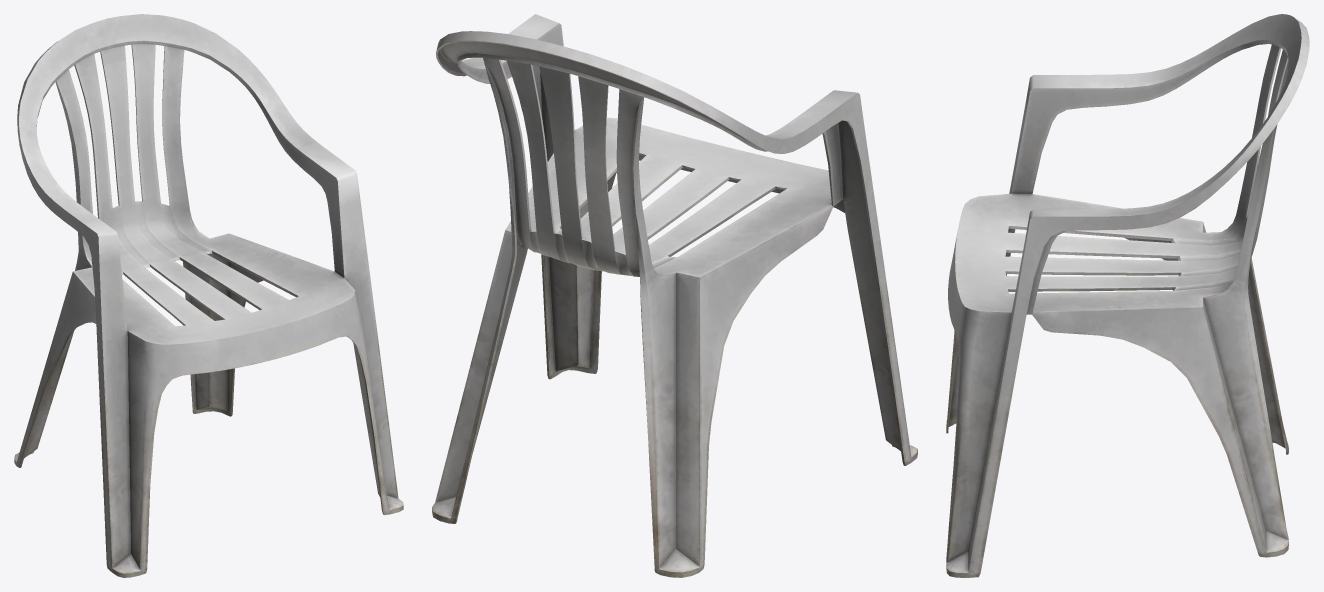
File: chair.glb
The picture shows the model from 3 angles, left to right: view 1: azimuth 30°, elevation 25°; view 2: azimuth 150°, elevation 25°; view 3: azimuth 270°, elevation 25°; orthographic projection. The views are drawn at different scales.
Visible parts, largest first — view 1: Monobloc_Material.001_0; view 2: Monobloc_Material.001_0; view 3: Monobloc_Material.001_0.
Part boxes in pixels (x1,y1,x2,y2): Monobloc_Material.001_0: (14,14,403,577); Monobloc_Material.001_0: (432,14,917,577); Monobloc_Material.001_0: (946,14,1309,577).
Size of the model in its own units: 0.808 by 1.11 by 0.79.
1 material, 1 textured.
